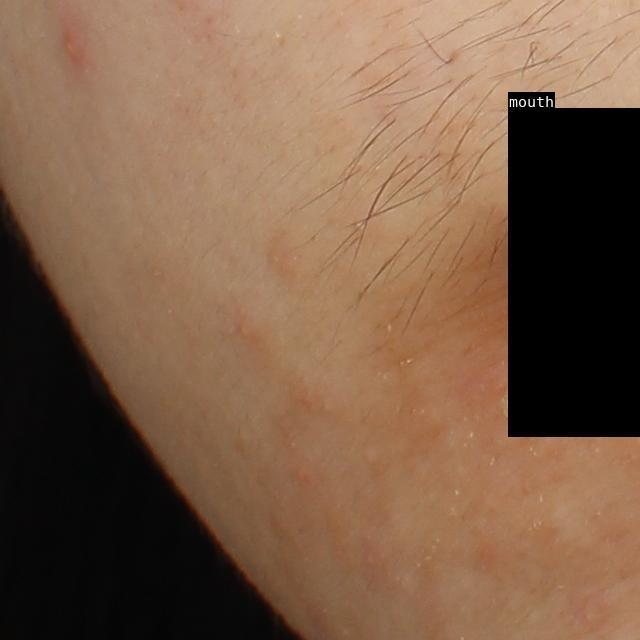comedo: (358, 445, 384, 472)
hypertrophic_scar: (545, 504, 601, 557)
papule: (55, 20, 95, 74), (237, 318, 258, 340)
